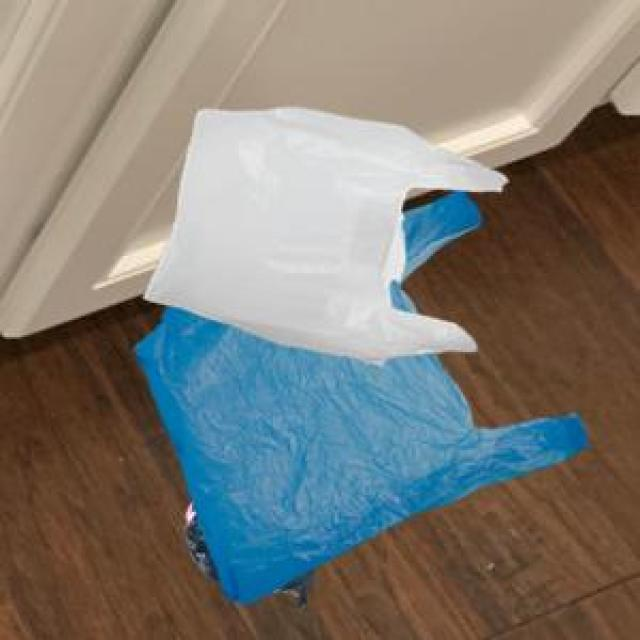miscellaneous trash: (181, 501, 309, 608)
